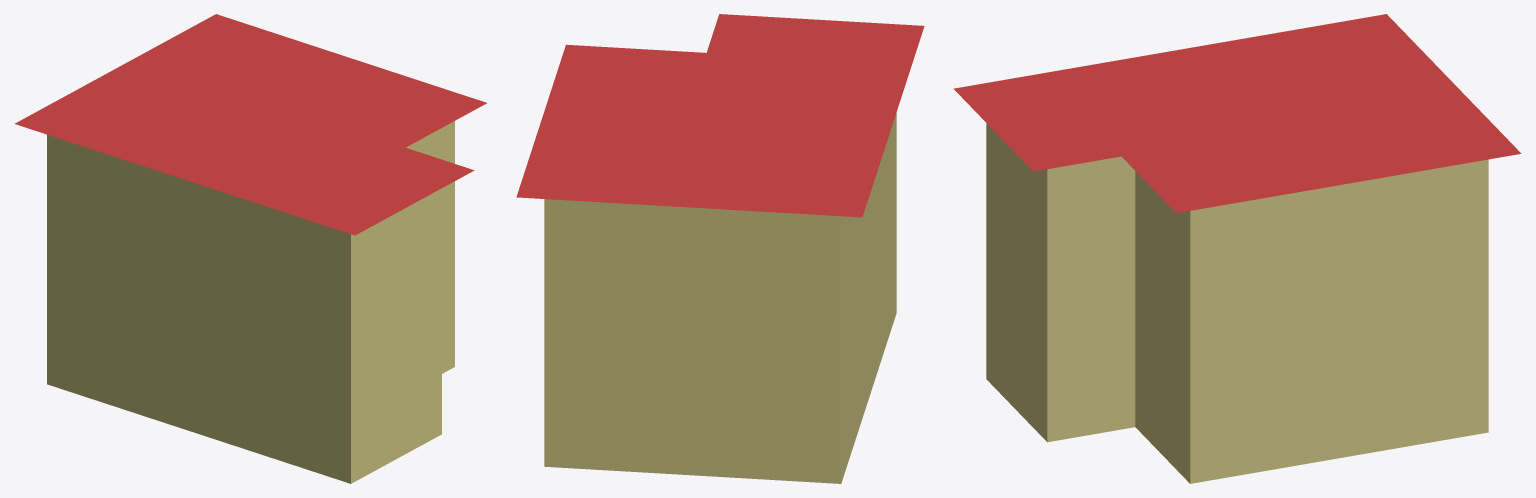
The picture shows the model from 3 angles, left to right: view 1: azimuth 30°, elevation 25°; view 2: azimuth 150°, elevation 25°; view 3: azimuth 270°, elevation 25°; orthographic projection. The views are drawn at different scales.
Size of the model in its own units: 9.3 by 11.2 by 6.19.
